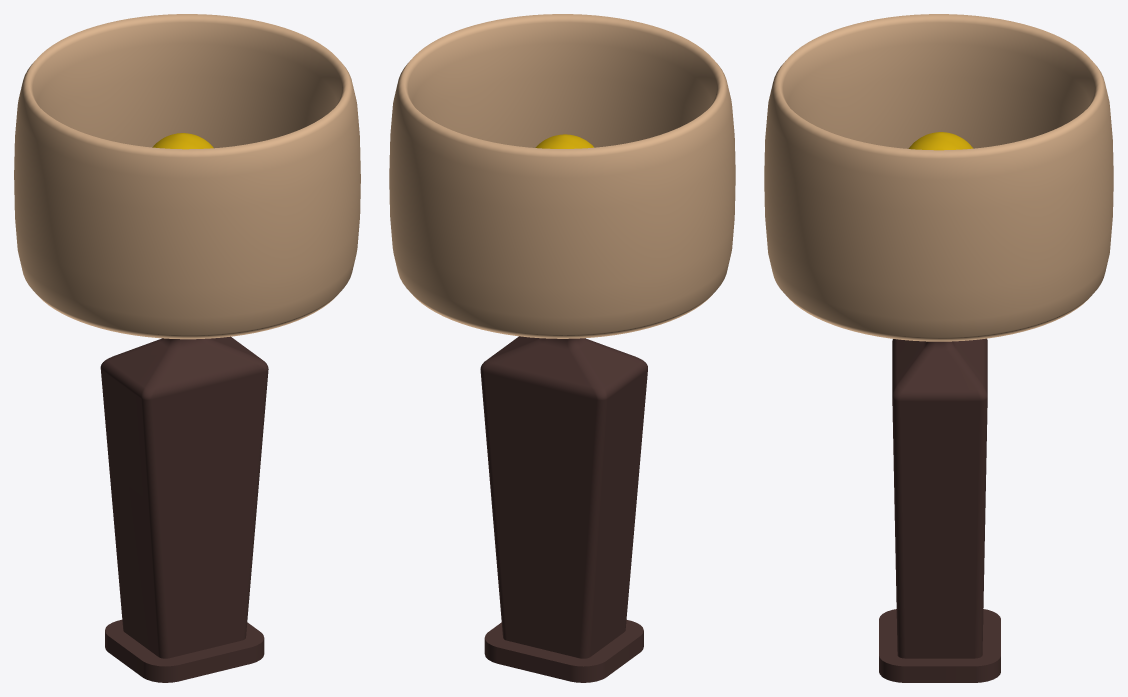
File: LampeSalon2_5.fbx
3 views of the same model, side by side, from view 1: azimuth 30°, elevation 25°; view 2: azimuth 150°, elevation 25°; view 3: azimuth 270°, elevation 25° (orthographic).
Visible parts, largest first — view 1: pPipe117, pCube2060, pCylinder776; view 2: pPipe117, pCube2060, pCylinder776; view 3: pPipe117, pCube2060, pCylinder776.
Part boxes in pixels (x1,y1,x2,y2): pPipe117: (14,14,360,339); pCube2060: (100,336,268,682); pCylinder776: (152,133,213,149); pPipe117: (389,14,735,338); pCube2060: (480,336,647,682); pCylinder776: (535,134,593,148); pPipe117: (764,14,1113,341); pCube2060: (879,338,1000,682); pCylinder776: (908,132,973,150).
Size of the model in its own units: 31.01 by 56.08 by 31.01.
